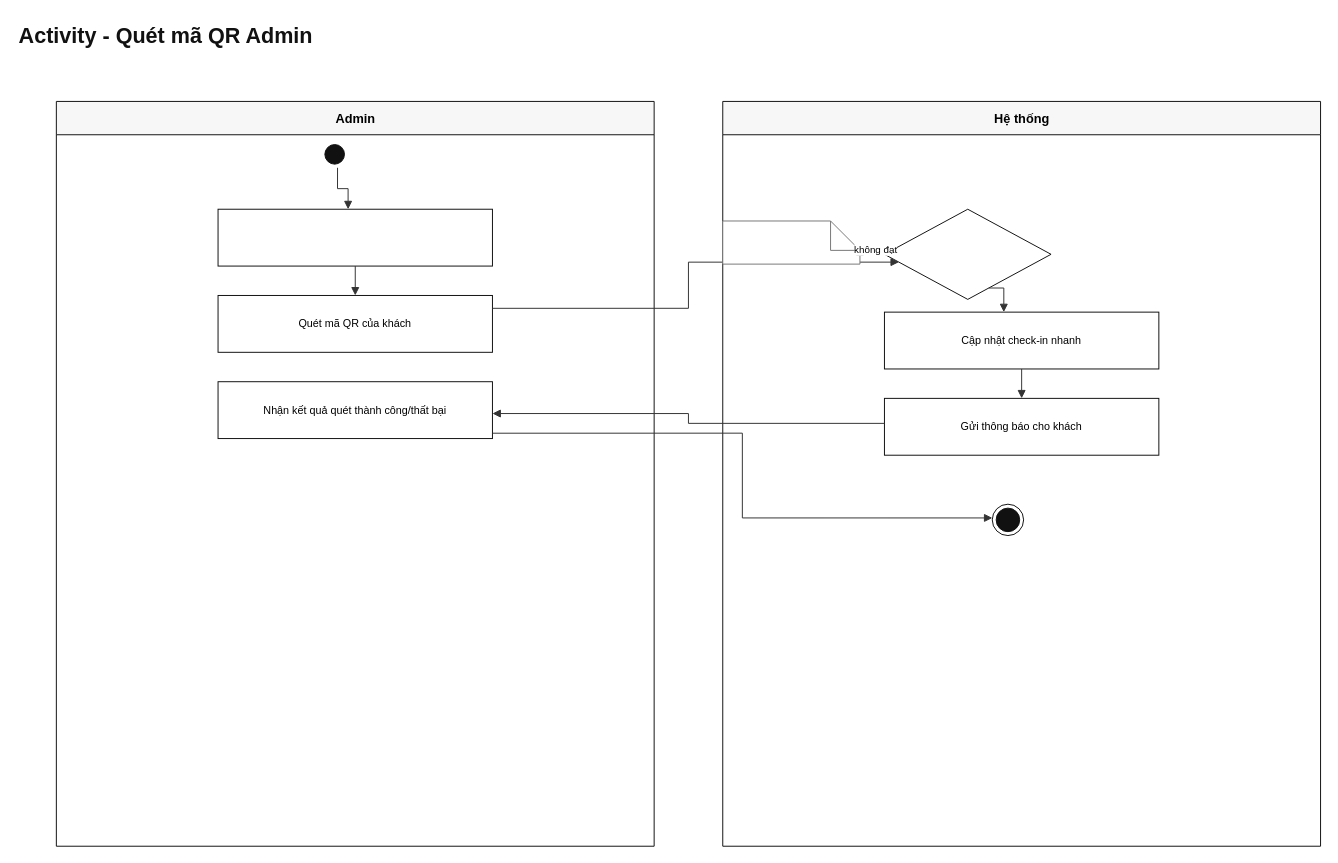
Some shapes in this 1338 by 863 pixel diagram are drawn without their labels. Here are the shapes that lost their labels. From the top down, the centre of each, then its label:
(354,237): Mở camera quét QR
(791,242): Nhánh lỗi / ngoại lệ
(967,253): Decode và validate booking token
